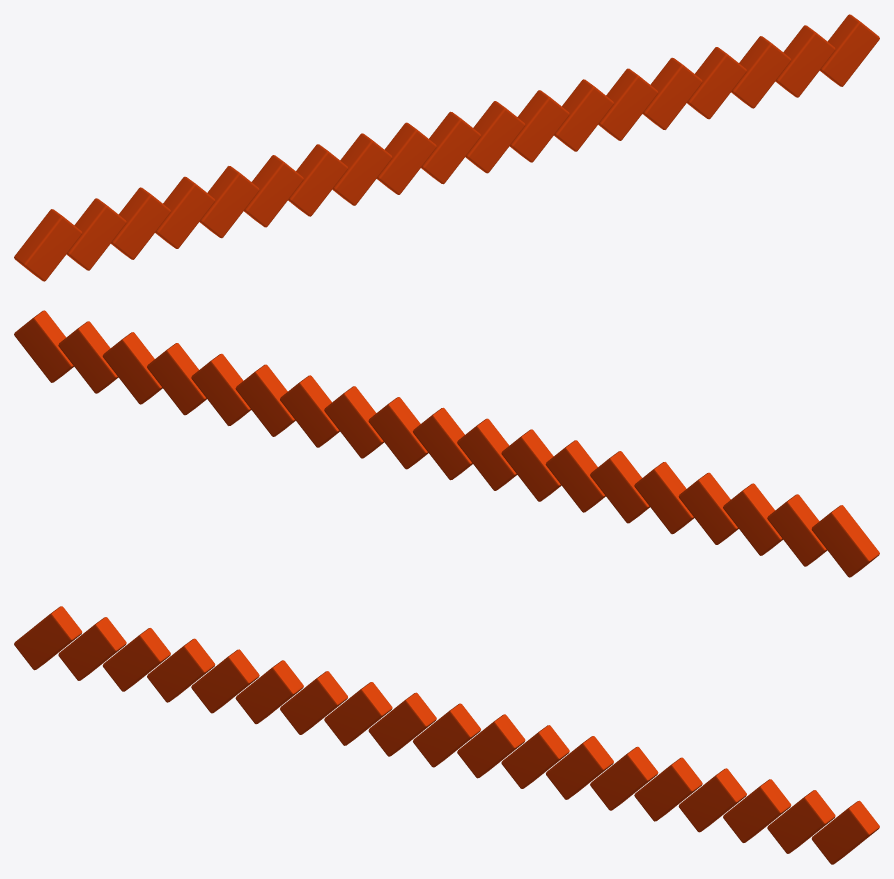
The model's file is Coincraft_Brick.fbx.
3 renders of one model, top to bottom at view 1: azimuth 30°, elevation 25°; view 2: azimuth 150°, elevation 25°; view 3: azimuth 330°, elevation 25°, orthographic.
Parts seen in each view (by area): view 1: Bricks; view 2: Bricks; view 3: Bricks.
Boxes of the visible parts, box(x1,y1,x2,y2) form: Bricks: box(14, 14, 879, 281); Bricks: box(14, 310, 879, 577); Bricks: box(14, 606, 879, 864).
Size of the model in its own units: 601 by 41.12 by 14.08.
